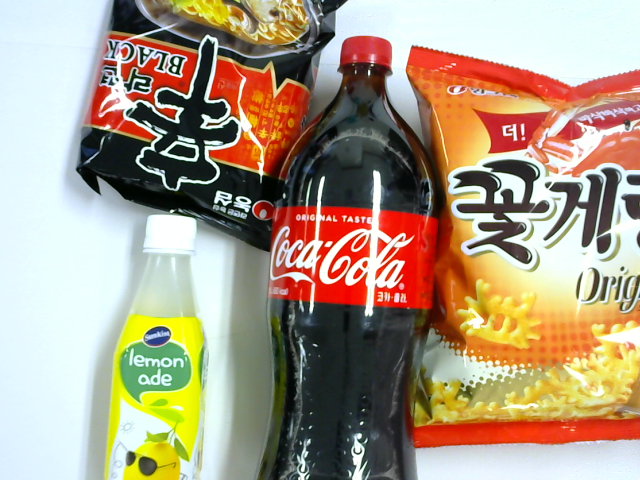Coca_Cola_1.5L: (254, 37, 439, 480)
Crabrang: (405, 43, 640, 452)
Sinramen_Black: (75, 1, 347, 252)
Sunkist_Lemonaid_Pet: (103, 215, 211, 480)
